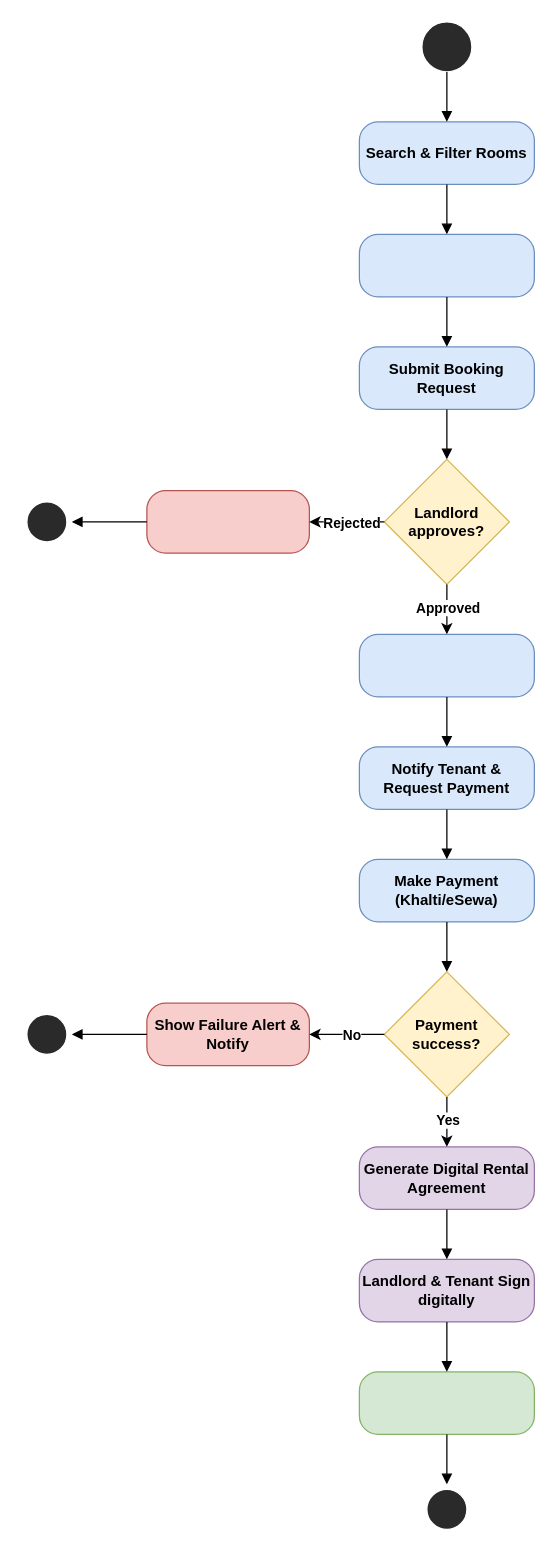
Image size: 556x1556. Some labels were removed from this diagram. The centre of each missing label's shape, as x and y in pixels:
"Activate Booking & Block Room availability" goes at (446,1402).
"Notify Tenant of Rejection" goes at (227,521).
"Select Room & View Details" goes at (446,265).
"Update Status to Approved" goes at (446,665).
